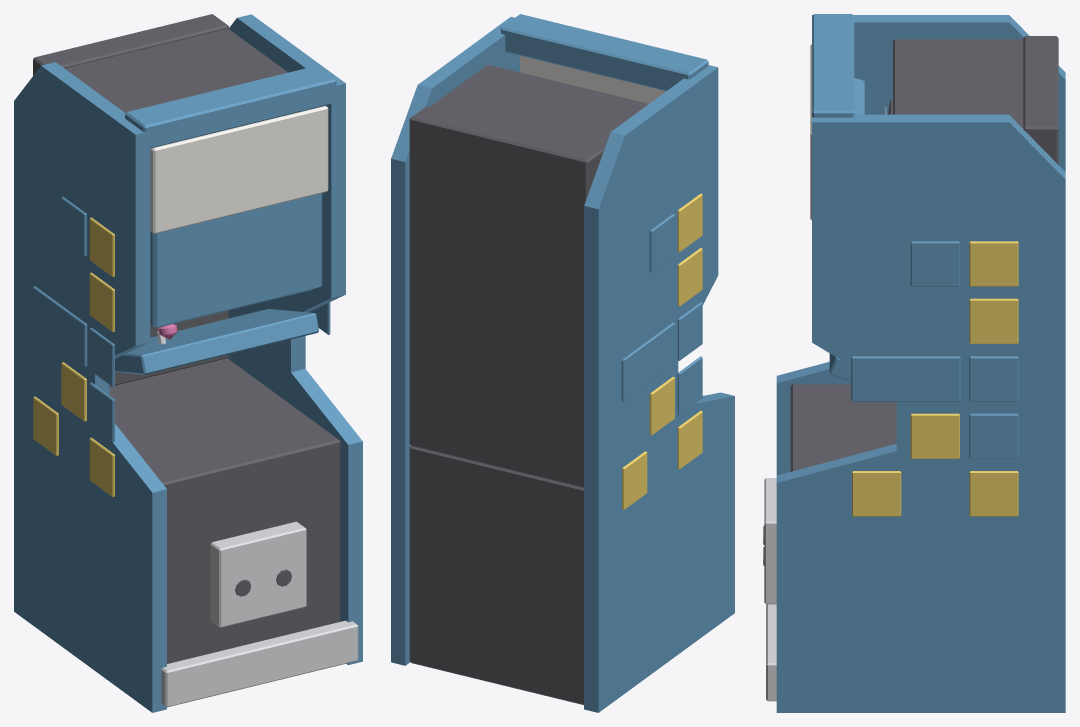
The model's file is amusement-arcade-and-seaside-pier-arcade-cabinet-d50a2de3__35403.glb.
3 renders of one model, left to right at view 1: azimuth 30°, elevation 25°; view 2: azimuth 150°, elevation 25°; view 3: azimuth 270°, elevation 25°, orthographic. The views are drawn at different scales.
Parts seen in each view (by area): view 1: arcade-cabinet; view 2: arcade-cabinet; view 3: arcade-cabinet.
Boxes of the visible parts, x1=… form: arcade-cabinet: x1=14, y1=14, x2=362, y2=712; arcade-cabinet: x1=391, y1=14, x2=734, y2=712; arcade-cabinet: x1=763, y1=14, x2=1065, y2=712.
Bounding box in the file's own units: 0.7461 × 1.87 × 0.858.
